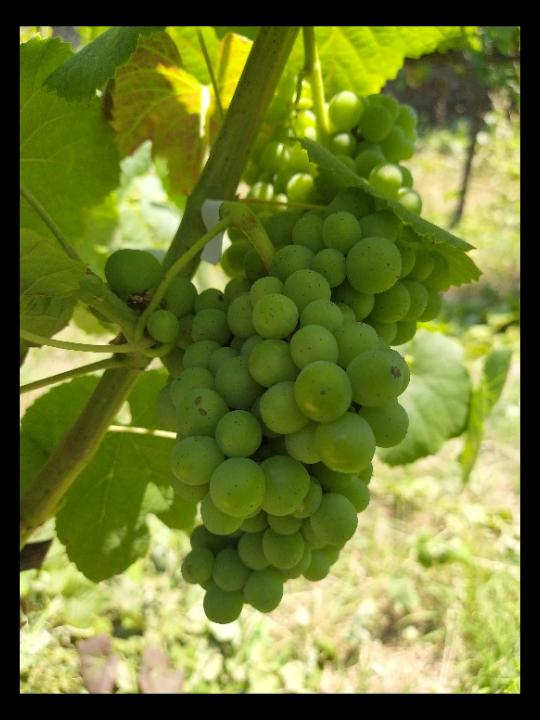grape: (102, 186, 449, 628)
